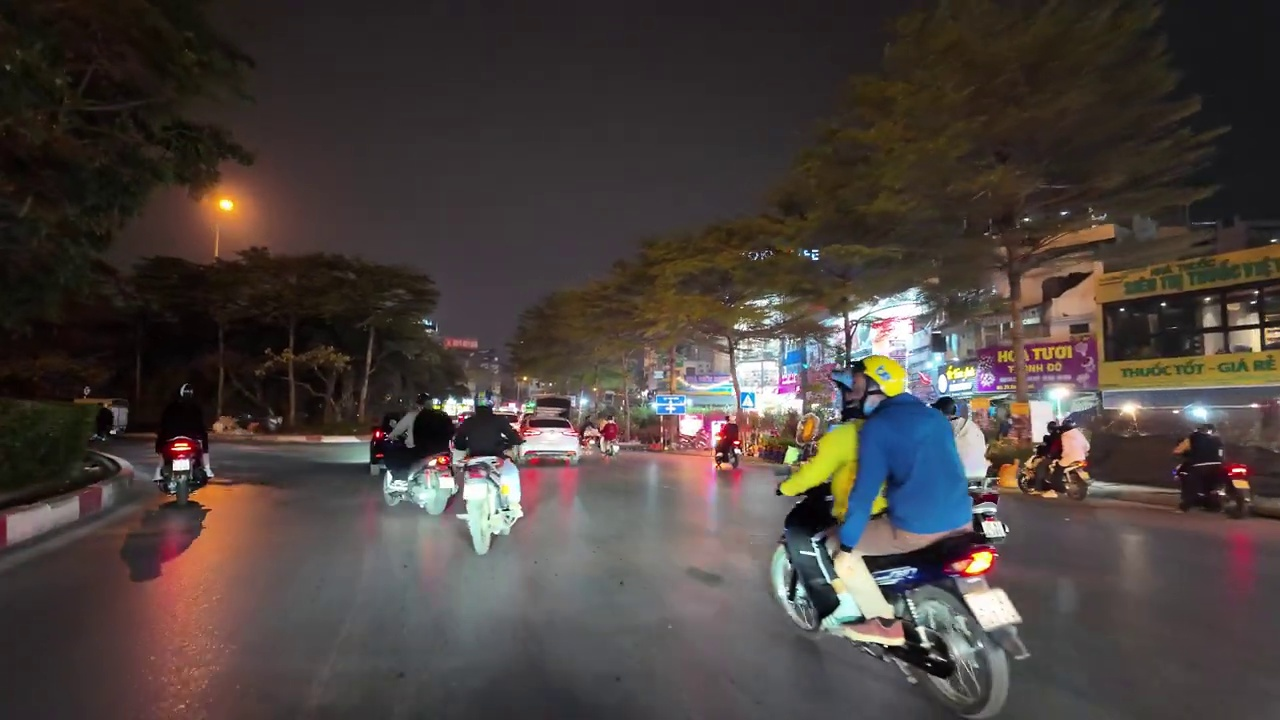acesa: (205, 188, 247, 227)
